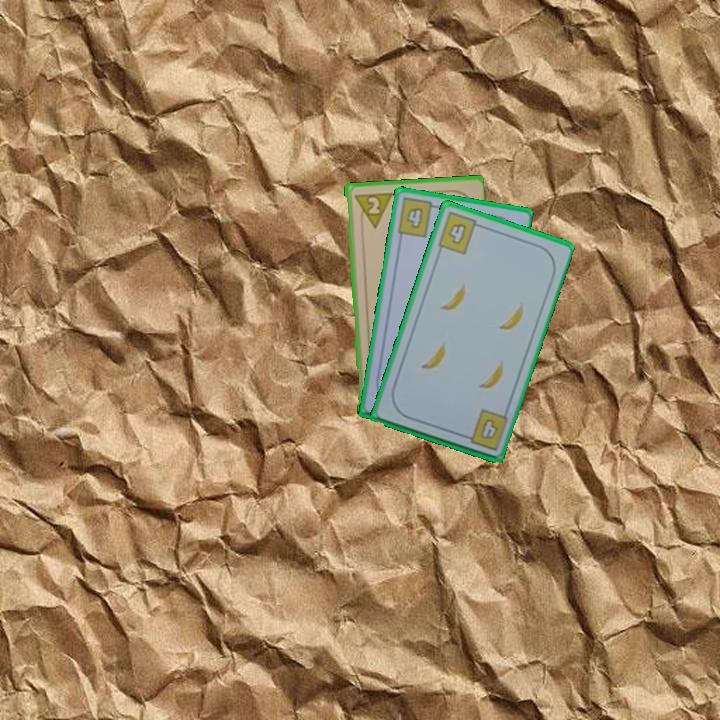2p: (350, 189, 393, 231)
4b: (434, 208, 486, 257), (459, 406, 508, 453), (393, 194, 442, 240)
